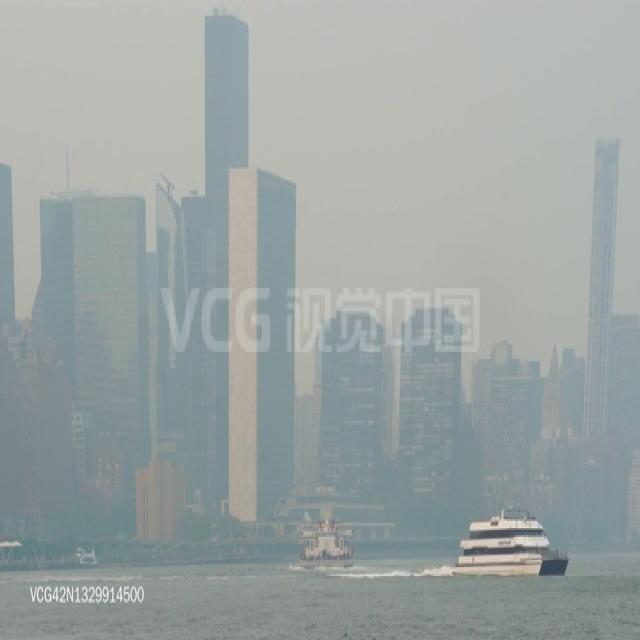houseboat: (72, 543, 99, 569)
passenger ship: (451, 508, 569, 582), (300, 516, 355, 569)
